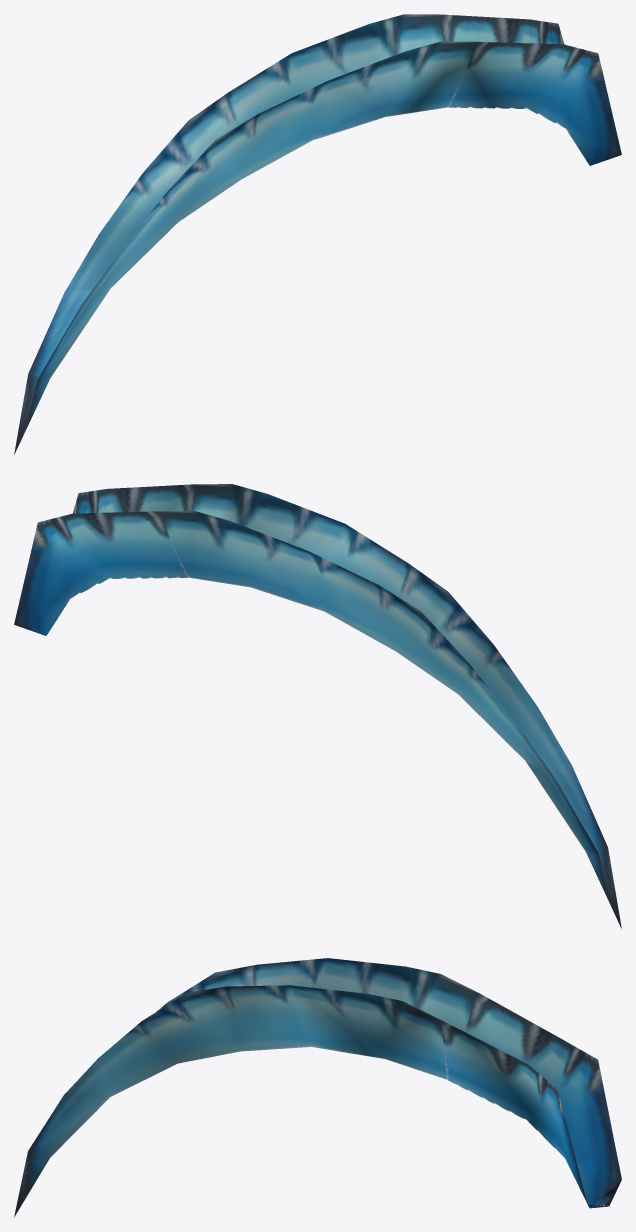
File: wuqi_ren.FBX
3 views of the same model, one above another, from view 1: azimuth 30°, elevation 25°; view 2: azimuth 150°, elevation 25°; view 3: azimuth 330°, elevation 25° (orthographic).
Visible parts, largest first — view 1: Plane002; view 2: Plane002; view 3: Plane002.
Part boxes in pixels (left/top/right/bottom): Plane002: left=14, top=14, right=621, bottom=454; Plane002: left=14, top=484, right=621, bottom=929; Plane002: left=14, top=958, right=621, bottom=1217.
Size of the model in its own units: 97.01 by 51.47 by 11.36.
Materials: 1 (1 with a texture image).
